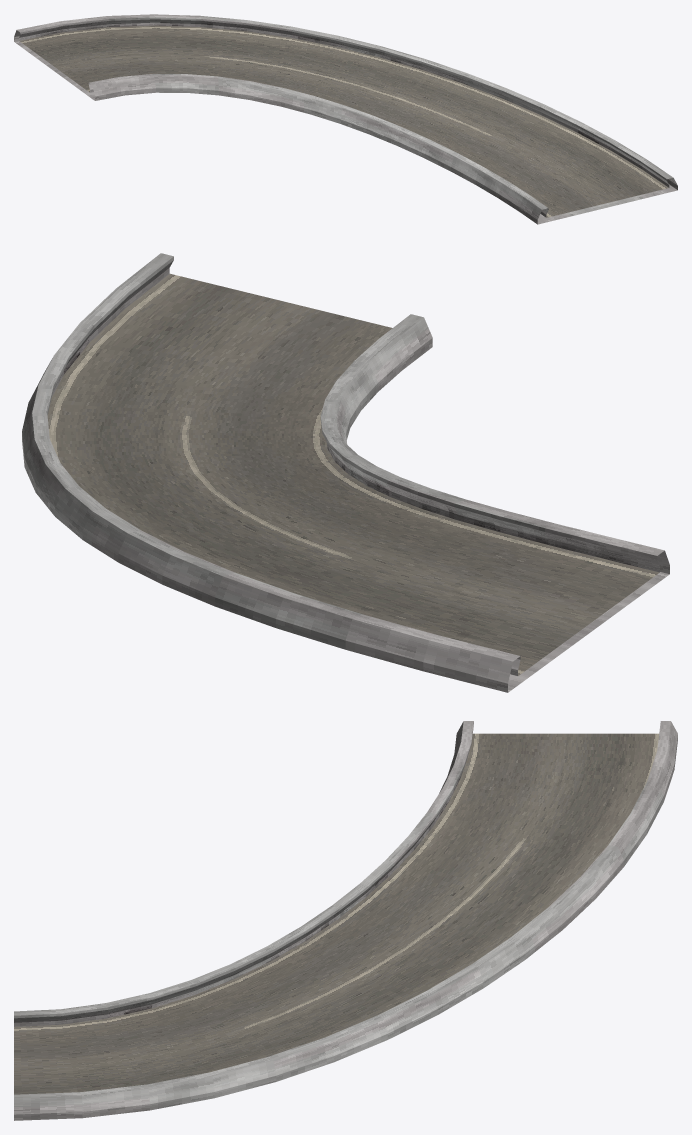
The model's file is turn-left3x3.glb.
3 renders of one model, top to bottom at view 1: azimuth 30°, elevation 25°; view 2: azimuth 150°, elevation 25°; view 3: azimuth 270°, elevation 25°, orthographic. The views are drawn at different scales.
Parts seen in each view (by area): view 1: road-Turn-Flat-Flat-Up2-Left-Size3; view 2: road-Turn-Flat-Flat-Up2-Left-Size3; view 3: road-Turn-Flat-Flat-Up2-Left-Size3.
Part boxes in pixels (bbox=[...]): road-Turn-Flat-Flat-Up2-Left-Size3: bbox=[14, 14, 677, 224]; road-Turn-Flat-Flat-Up2-Left-Size3: bbox=[22, 253, 669, 692]; road-Turn-Flat-Flat-Up2-Left-Size3: bbox=[14, 721, 677, 1120].
Bounding box in the file's own units: 3 × 0.5938 × 3.
2 materials, 2 textured.
